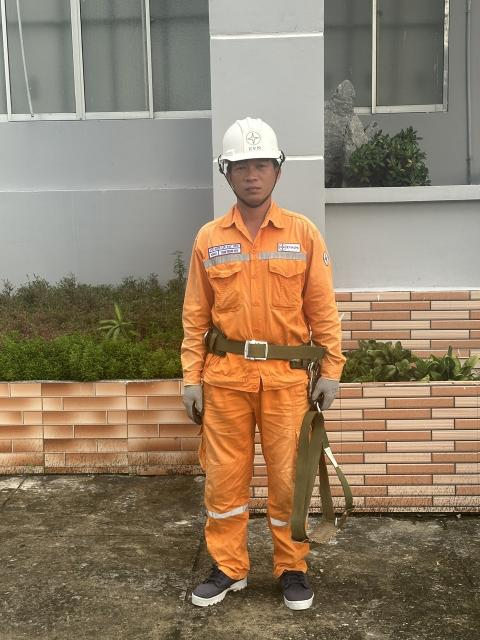gloves: (309, 367, 351, 420), (178, 374, 217, 426)
harness: (191, 300, 333, 385)
helmet: (211, 105, 293, 180)
shoes: (266, 557, 323, 615), (182, 565, 247, 614)
